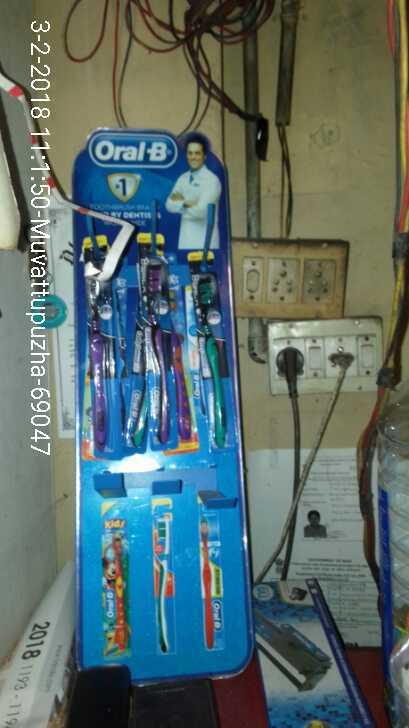oralb: (134, 255, 186, 455), (72, 249, 121, 461), (192, 274, 234, 457)
